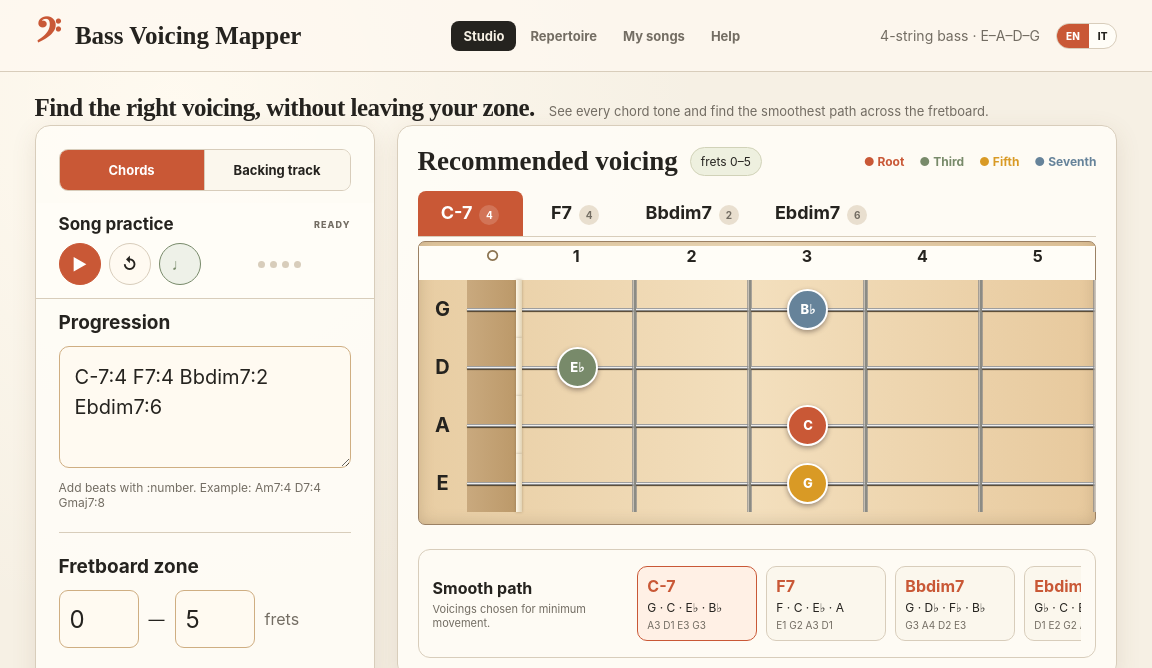
Scenario: backing source › reveals the feel and levels when the generated backing is chosen
The width and height of the screenshot is (1152, 668).
Click the tab "Backing track" at (277, 170), box [204, 150, 350, 190]
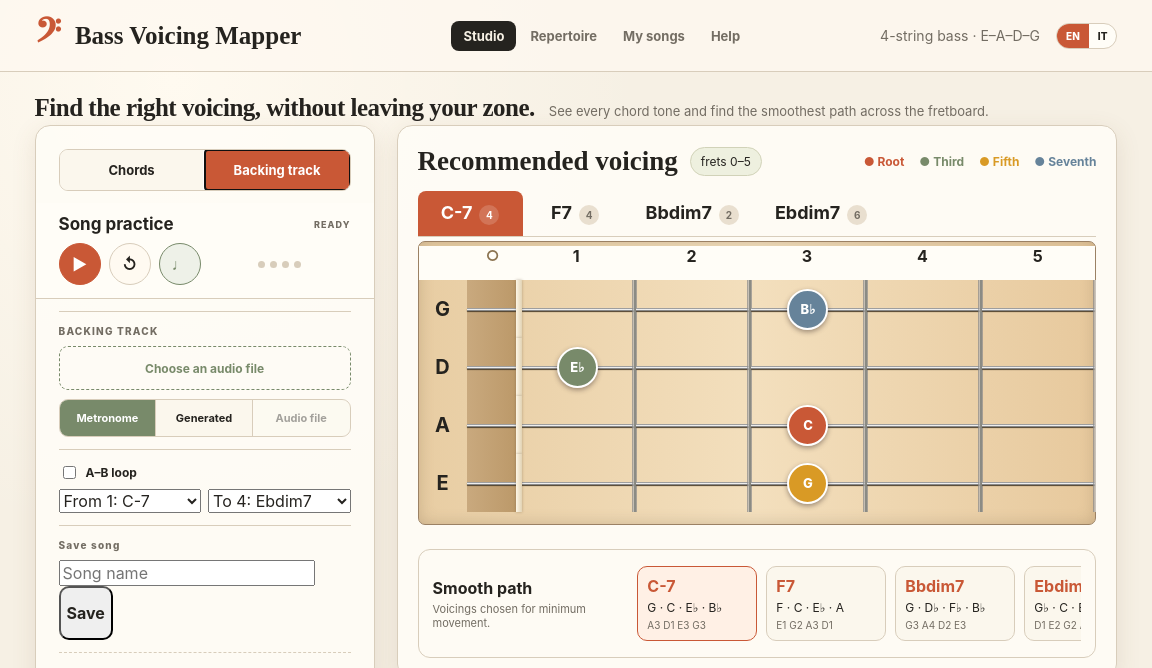
Expected: the field labelled "Feel" is not shown
Click the button "Generated" at (205, 418), box [156, 400, 253, 436]
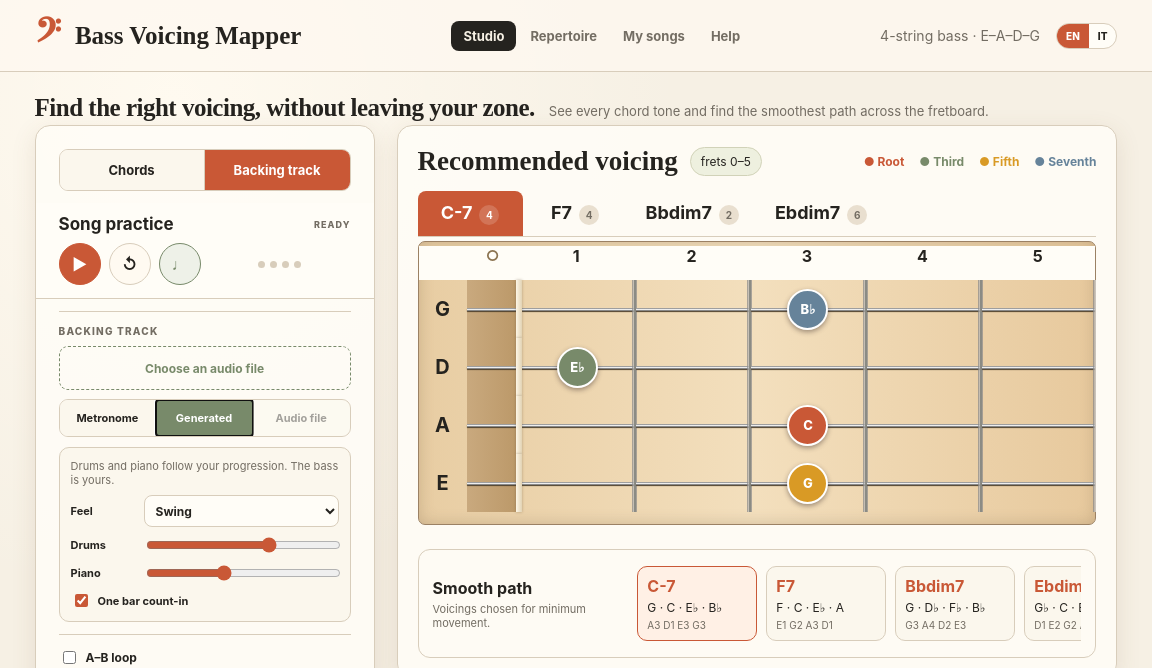
Now the dropdown labelled "Feel" is shown, box [144, 495, 338, 527]
Now the slider labelled "Drums" is shown, box [146, 537, 340, 553]
Now the slider labelled "Piano" is shown, box [146, 565, 340, 581]
